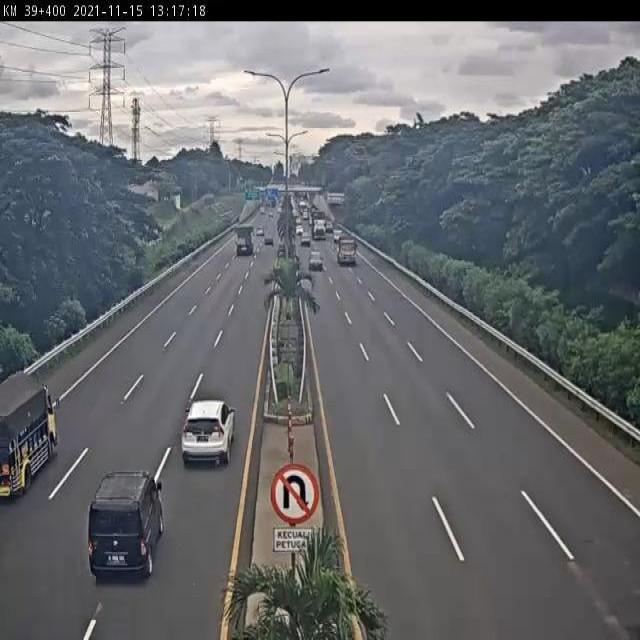car: (87, 472, 164, 576), (175, 400, 236, 468), (307, 251, 326, 273)
truck-l-: (0, 366, 59, 506), (335, 233, 359, 268)
